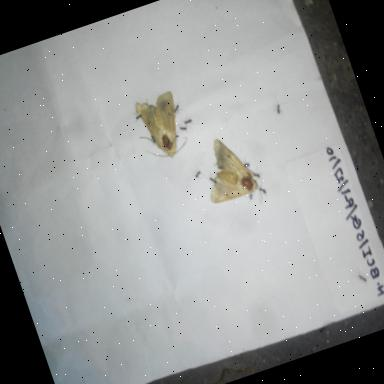abw: (190, 125, 272, 220), (125, 86, 195, 172)
